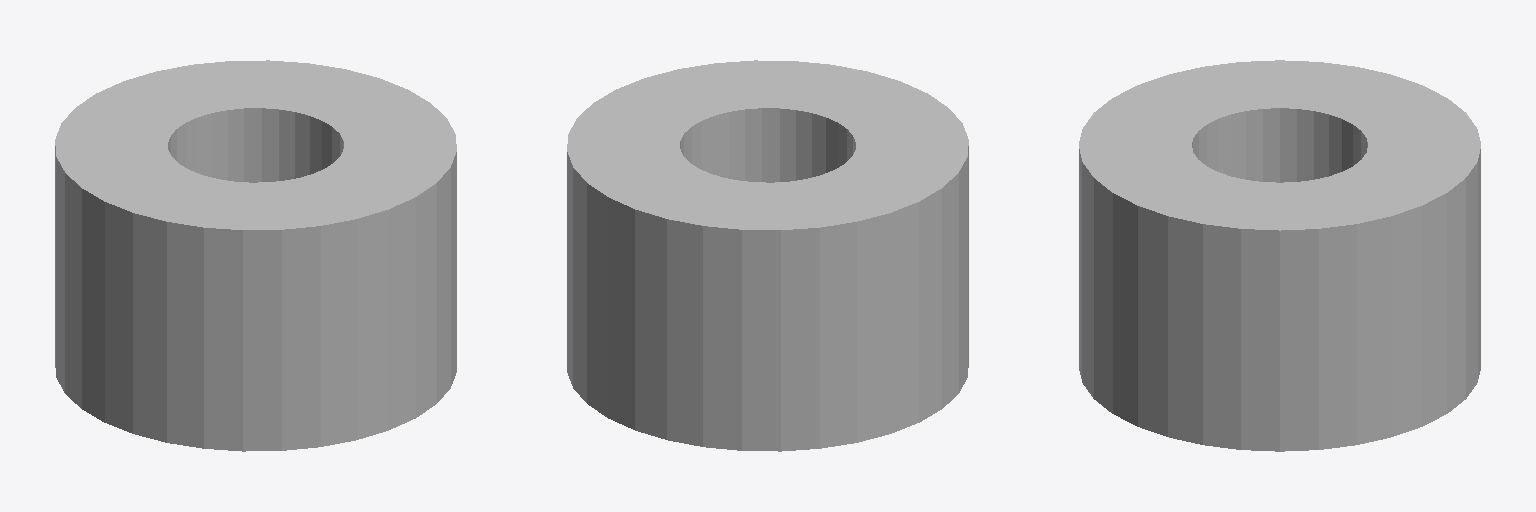
Rendered from Holzzylinder5.obj.
The picture shows the model from 3 angles: view 1: azimuth 30°, elevation 25°; view 2: azimuth 150°, elevation 25°; view 3: azimuth 270°, elevation 25°; orthographic projection.
Visible parts, largest first — view 1: Holzzylinder.005_Cylinder.017; view 2: Holzzylinder.005_Cylinder.017; view 3: Holzzylinder.005_Cylinder.017.
Boxes of the visible parts, <box> form: Holzzylinder.005_Cylinder.017: <box>55,60,456,451</box>; Holzzylinder.005_Cylinder.017: <box>567,60,968,451</box>; Holzzylinder.005_Cylinder.017: <box>1079,60,1480,451</box>.
Bounding box in the file's own units: 0.5332 × 0.323 × 0.5332.